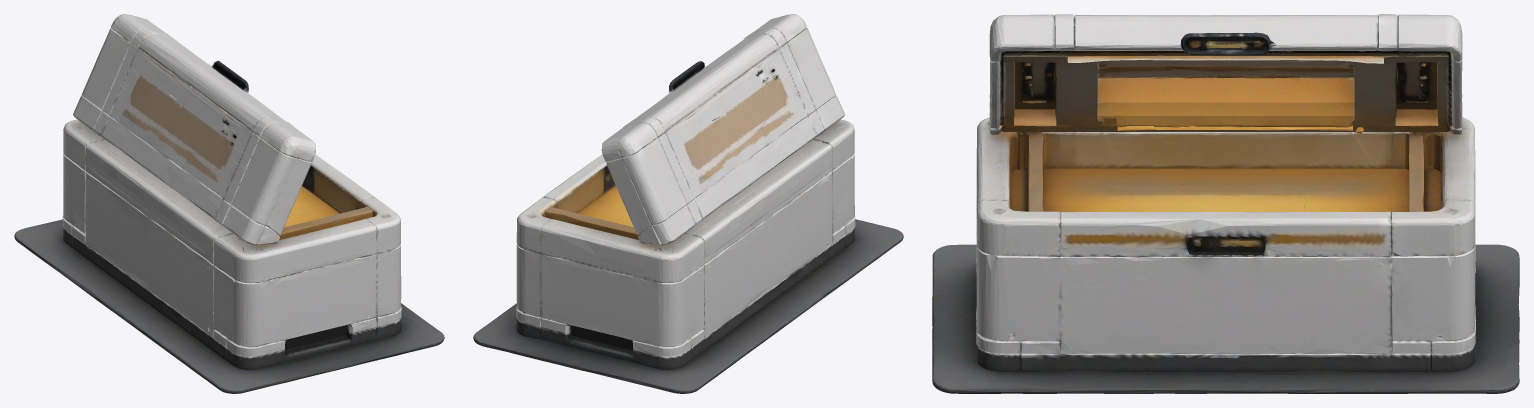
File: futuristic storage chest 3d model.glb
The picture shows the model from 3 angles, left to right: view 1: azimuth 30°, elevation 25°; view 2: azimuth 150°, elevation 25°; view 3: azimuth 270°, elevation 25°; orthographic projection. The views are drawn at different scales.
Parts seen in each view (by area): view 1: tripo_node_5e06276d-01e3-420b-8856-ec654e922b10; view 2: tripo_node_5e06276d-01e3-420b-8856-ec654e922b10; view 3: tripo_node_5e06276d-01e3-420b-8856-ec654e922b10.
Boxes of the visible parts, x1,y1,x2,y2 form: tripo_node_5e06276d-01e3-420b-8856-ec654e922b10: (14, 14, 444, 393); tripo_node_5e06276d-01e3-420b-8856-ec654e922b10: (473, 14, 903, 393); tripo_node_5e06276d-01e3-420b-8856-ec654e922b10: (932, 14, 1519, 393).
Bounding box in the file's own units: 0.5852 × 0.5499 × 1.
Materials: 1 (1 with a texture image).
